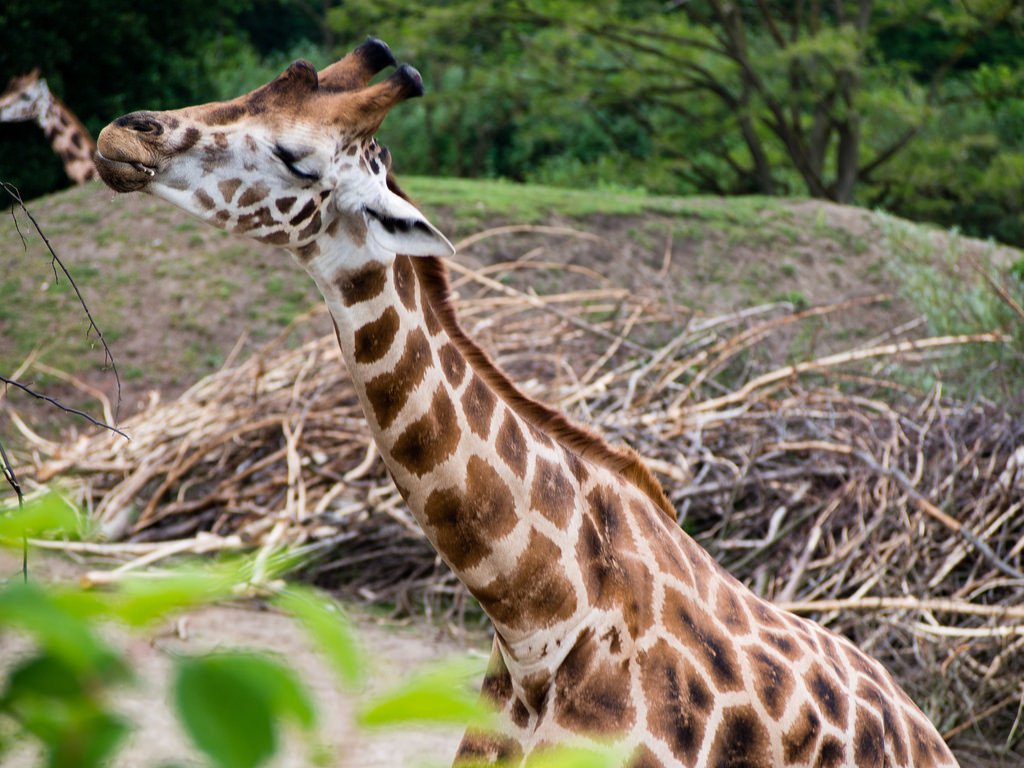giraffe: (94, 48, 908, 760)
